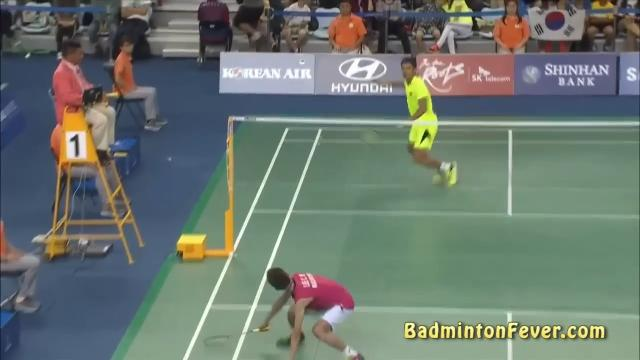Shuttlecock: (298, 52, 310, 66)
